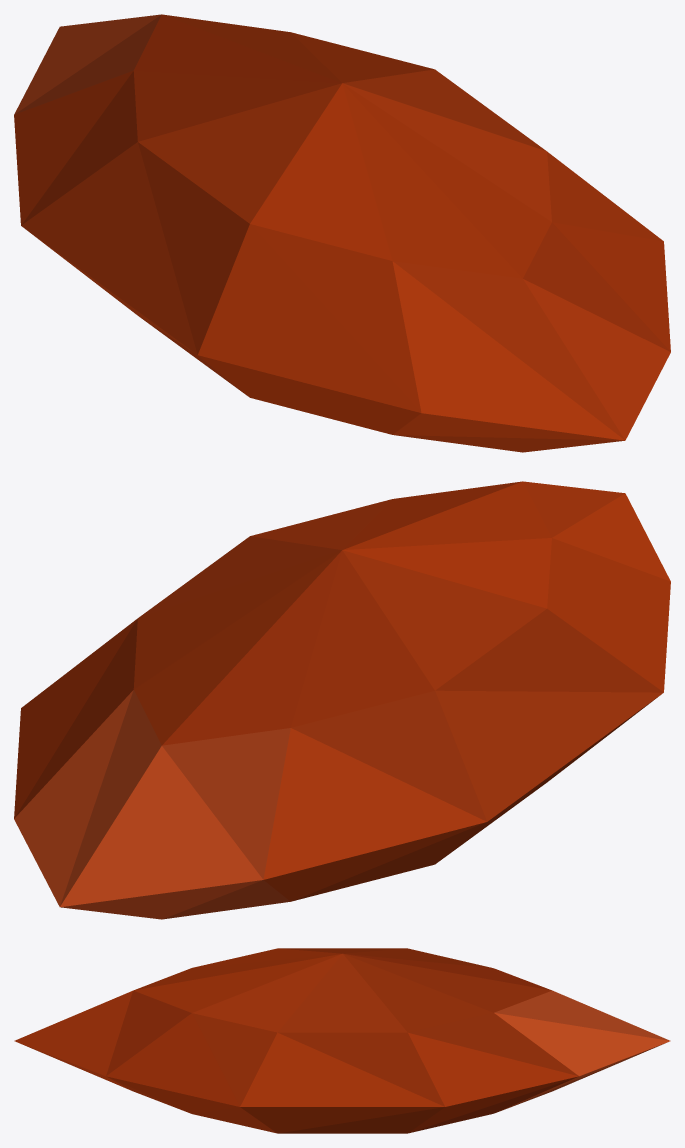
File: prop_treasure_gem_ruby_3.fbx
3 views of the same model, one above another, from view 1: azimuth 30°, elevation 25°; view 2: azimuth 150°, elevation 25°; view 3: azimuth 270°, elevation 25° (orthographic). The views are drawn at different scales.
Parts seen in each view (by area): view 1: prop_treasure_gem_ruby_3; view 2: prop_treasure_gem_ruby_3; view 3: prop_treasure_gem_ruby_3.
Boxes of the visible parts, bbox=[...] form: prop_treasure_gem_ruby_3: bbox=[14, 14, 670, 452]; prop_treasure_gem_ruby_3: bbox=[14, 481, 670, 919]; prop_treasure_gem_ruby_3: bbox=[14, 948, 670, 1133].
Size of the model in its own units: 0.2791 by 0.1719 by 0.5865.
